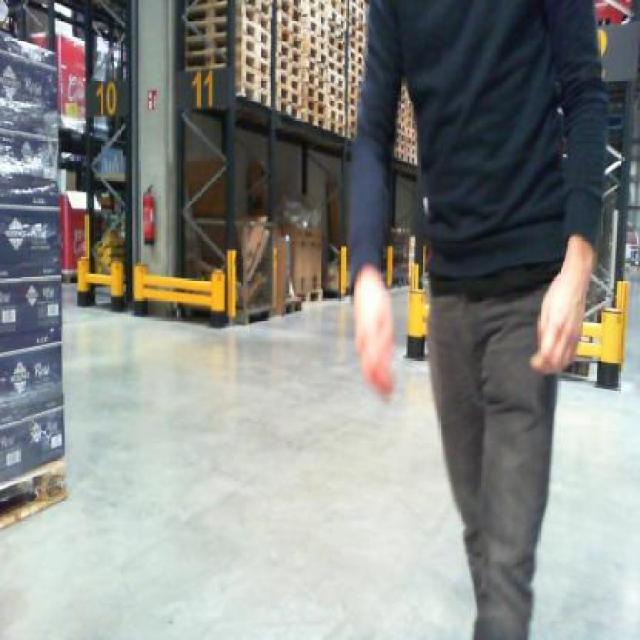pallet: (254, 0, 354, 112)
